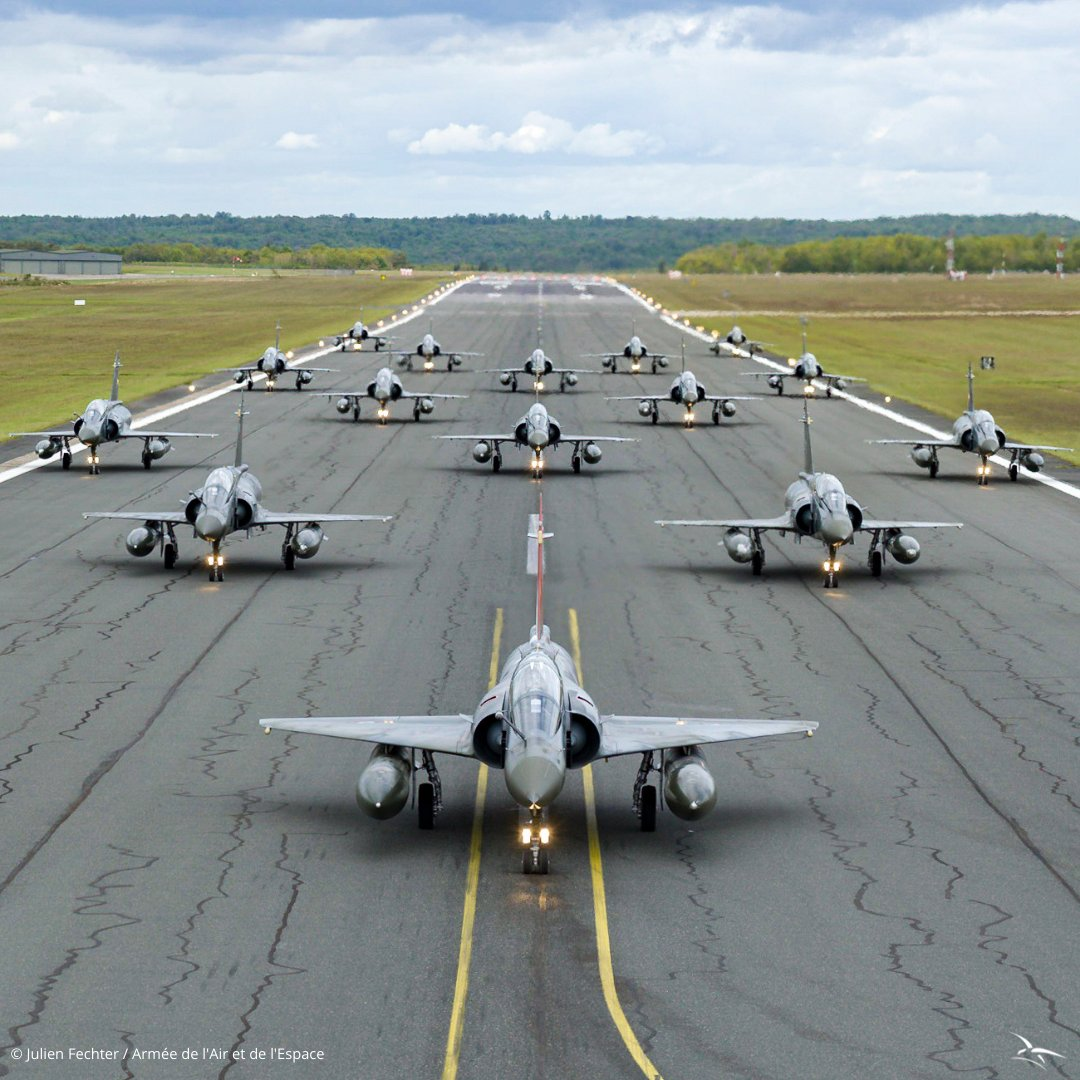Mirage2000: (258, 492, 819, 875), (81, 388, 393, 582), (653, 396, 964, 589), (8, 348, 220, 476), (862, 360, 1075, 486), (430, 355, 642, 480), (602, 336, 765, 429), (307, 340, 470, 425), (738, 325, 869, 399), (211, 318, 341, 392), (474, 327, 604, 395), (580, 317, 688, 375), (375, 316, 480, 373), (695, 308, 779, 359), (314, 305, 405, 352)
